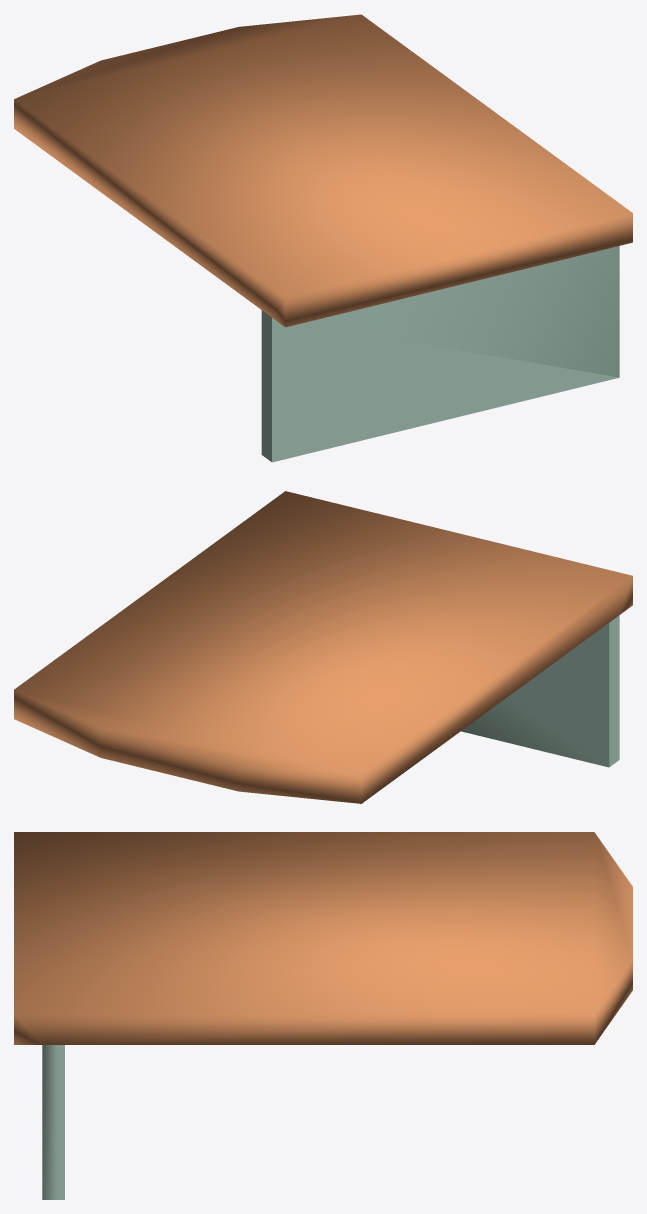
File: bathroomMirror.obj
The picture shows the model from 3 angles, top to bottom: view 1: azimuth 30°, elevation 25°; view 2: azimuth 150°, elevation 25°; view 3: azimuth 270°, elevation 25°; orthographic projection. The views are drawn at different scales.
Parts seen in each view (by area): view 1: bathroomMirror; view 2: bathroomMirror; view 3: bathroomMirror.
Part boxes in pixels (x1,y1,x2,y2): bathroomMirror: [14, 14, 632, 462]; bathroomMirror: [14, 491, 632, 803]; bathroomMirror: [14, 832, 632, 1199].
Size of the model in its own units: 0.3013 by 0.1444 by 0.4346.
